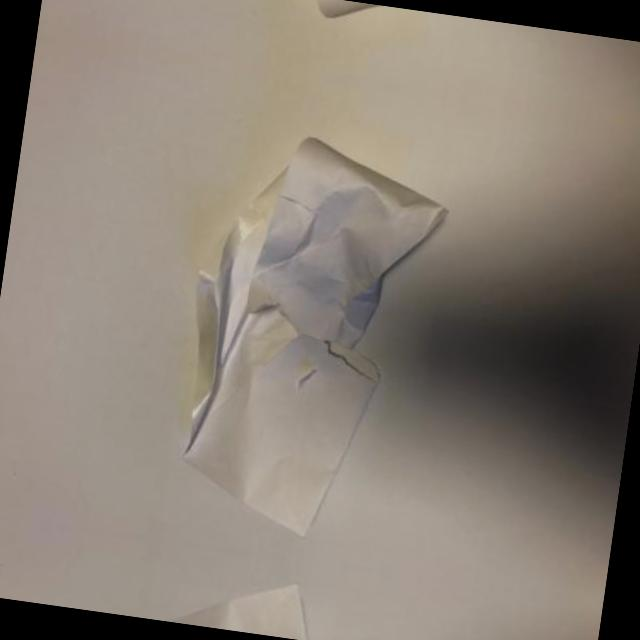paper: (126, 116, 477, 549), (110, 561, 413, 640), (196, 0, 495, 41)
